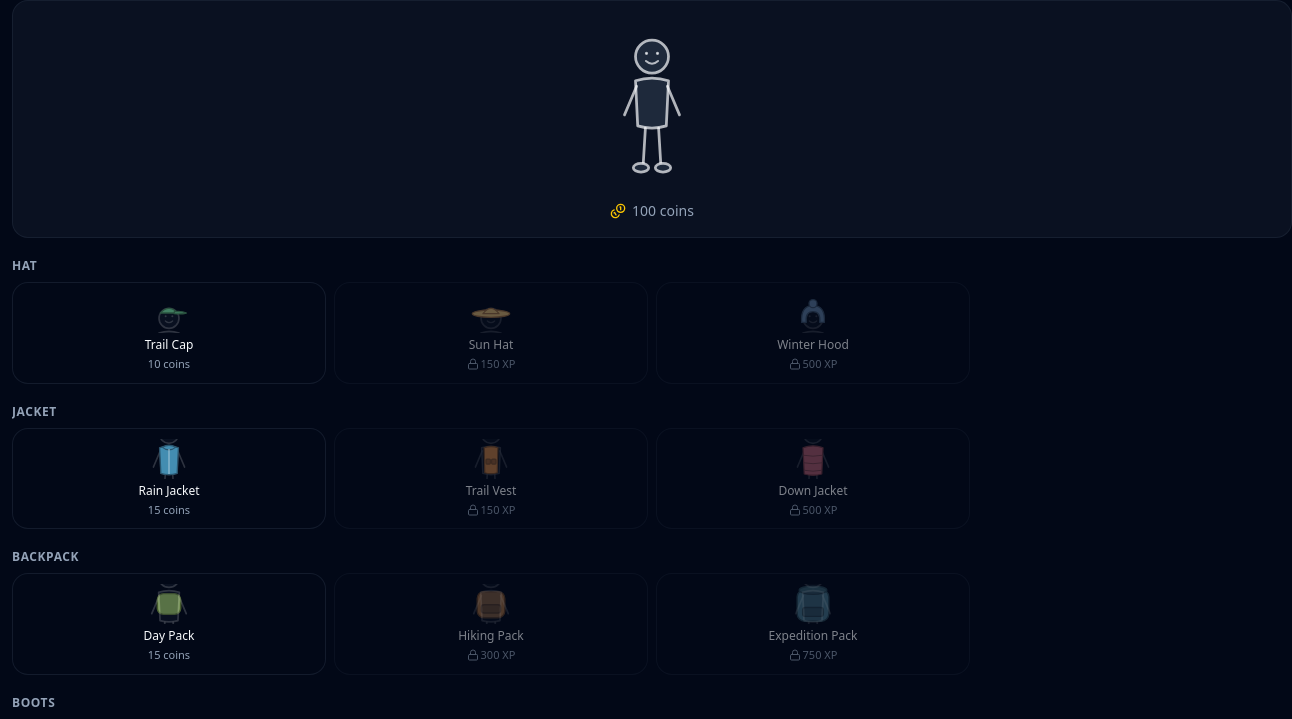
Scenario: AvatarPicker › unlocks an affordable, XP-eligible item on click
The image size is (1292, 719).
Click the button "Trail Cap 10 coins" at (169, 333), box [12,282,326,384]
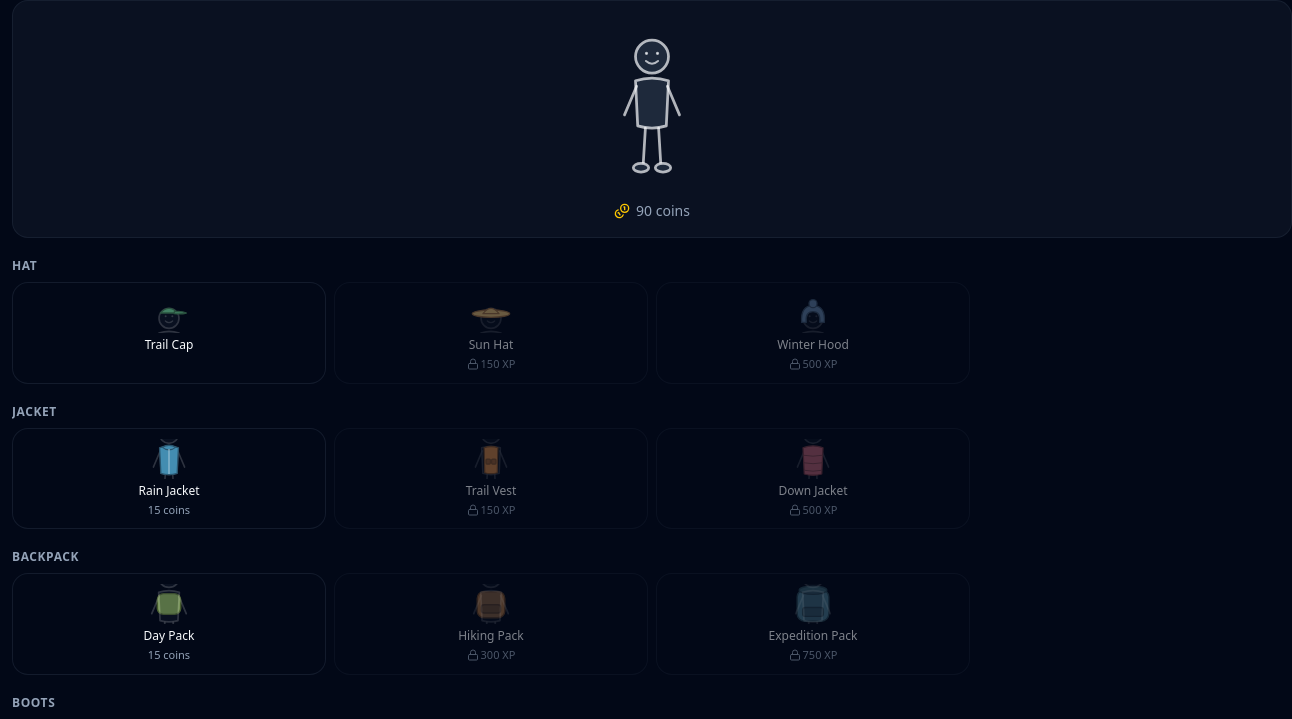
Result: the text "90 coins" is shown at [636,201,690,221]
